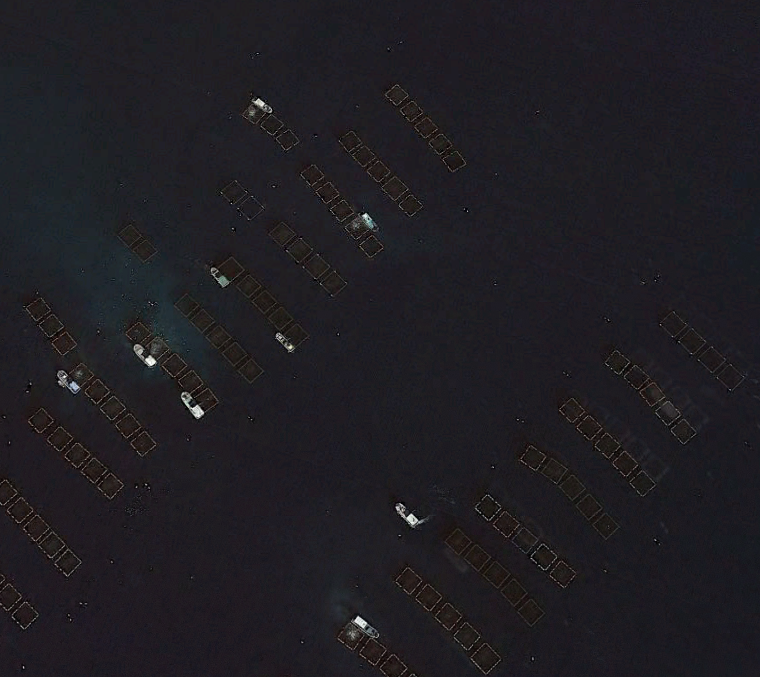ship: (390, 498, 425, 533), (270, 325, 301, 359), (178, 387, 204, 421), (129, 340, 157, 371), (208, 263, 236, 292), (349, 611, 379, 638)
square: (332, 618, 370, 655), (464, 642, 504, 677), (5, 597, 42, 633), (657, 306, 693, 343), (38, 421, 77, 455), (556, 394, 593, 429), (280, 230, 316, 265), (79, 374, 114, 410), (517, 441, 552, 477), (492, 509, 528, 544), (453, 537, 490, 571), (625, 464, 658, 502), (25, 404, 60, 439), (412, 581, 447, 616), (432, 598, 464, 636), (574, 410, 608, 445), (473, 492, 508, 526), (318, 266, 354, 299), (711, 358, 747, 391), (298, 250, 335, 282), (395, 563, 427, 600), (20, 508, 51, 546), (95, 391, 129, 425), (214, 253, 249, 286), (156, 347, 191, 380), (173, 365, 208, 398), (607, 447, 642, 480), (231, 193, 267, 225), (229, 271, 265, 303), (202, 321, 235, 355), (65, 360, 99, 393), (653, 395, 686, 429), (588, 508, 621, 542), (542, 559, 576, 592), (441, 524, 475, 557), (477, 556, 510, 590), (355, 634, 388, 668), (3, 493, 38, 525), (524, 538, 555, 574), (21, 296, 58, 326), (169, 290, 203, 322), (186, 306, 220, 338), (234, 354, 268, 386), (49, 545, 83, 577), (623, 361, 655, 395), (37, 312, 72, 343), (606, 345, 636, 381), (372, 651, 413, 677), (384, 77, 417, 109), (325, 193, 358, 225), (265, 305, 298, 337), (219, 337, 251, 370), (58, 438, 91, 470), (76, 454, 109, 486), (638, 377, 670, 410), (499, 577, 531, 610), (218, 177, 252, 208), (249, 289, 283, 320), (279, 322, 313, 353), (121, 318, 155, 349), (113, 411, 147, 442), (138, 332, 173, 362), (125, 429, 160, 459), (126, 237, 162, 266), (379, 173, 411, 205), (451, 621, 482, 654), (515, 591, 545, 625), (264, 219, 299, 248), (511, 526, 541, 559), (579, 490, 608, 524), (47, 328, 78, 359), (669, 414, 700, 445), (348, 140, 380, 170), (194, 389, 227, 418), (93, 470, 124, 500), (680, 328, 711, 358), (592, 431, 623, 461), (115, 221, 147, 250), (561, 473, 590, 505), (297, 160, 329, 188), (312, 177, 344, 205), (343, 212, 373, 241), (698, 344, 726, 375), (540, 458, 571, 486), (39, 529, 66, 561), (357, 232, 388, 259), (255, 112, 287, 137), (364, 155, 392, 183), (273, 127, 303, 153), (242, 100, 270, 127), (398, 97, 425, 124), (337, 126, 364, 153), (439, 145, 467, 171), (395, 190, 421, 216), (427, 130, 452, 155), (416, 114, 440, 138)
